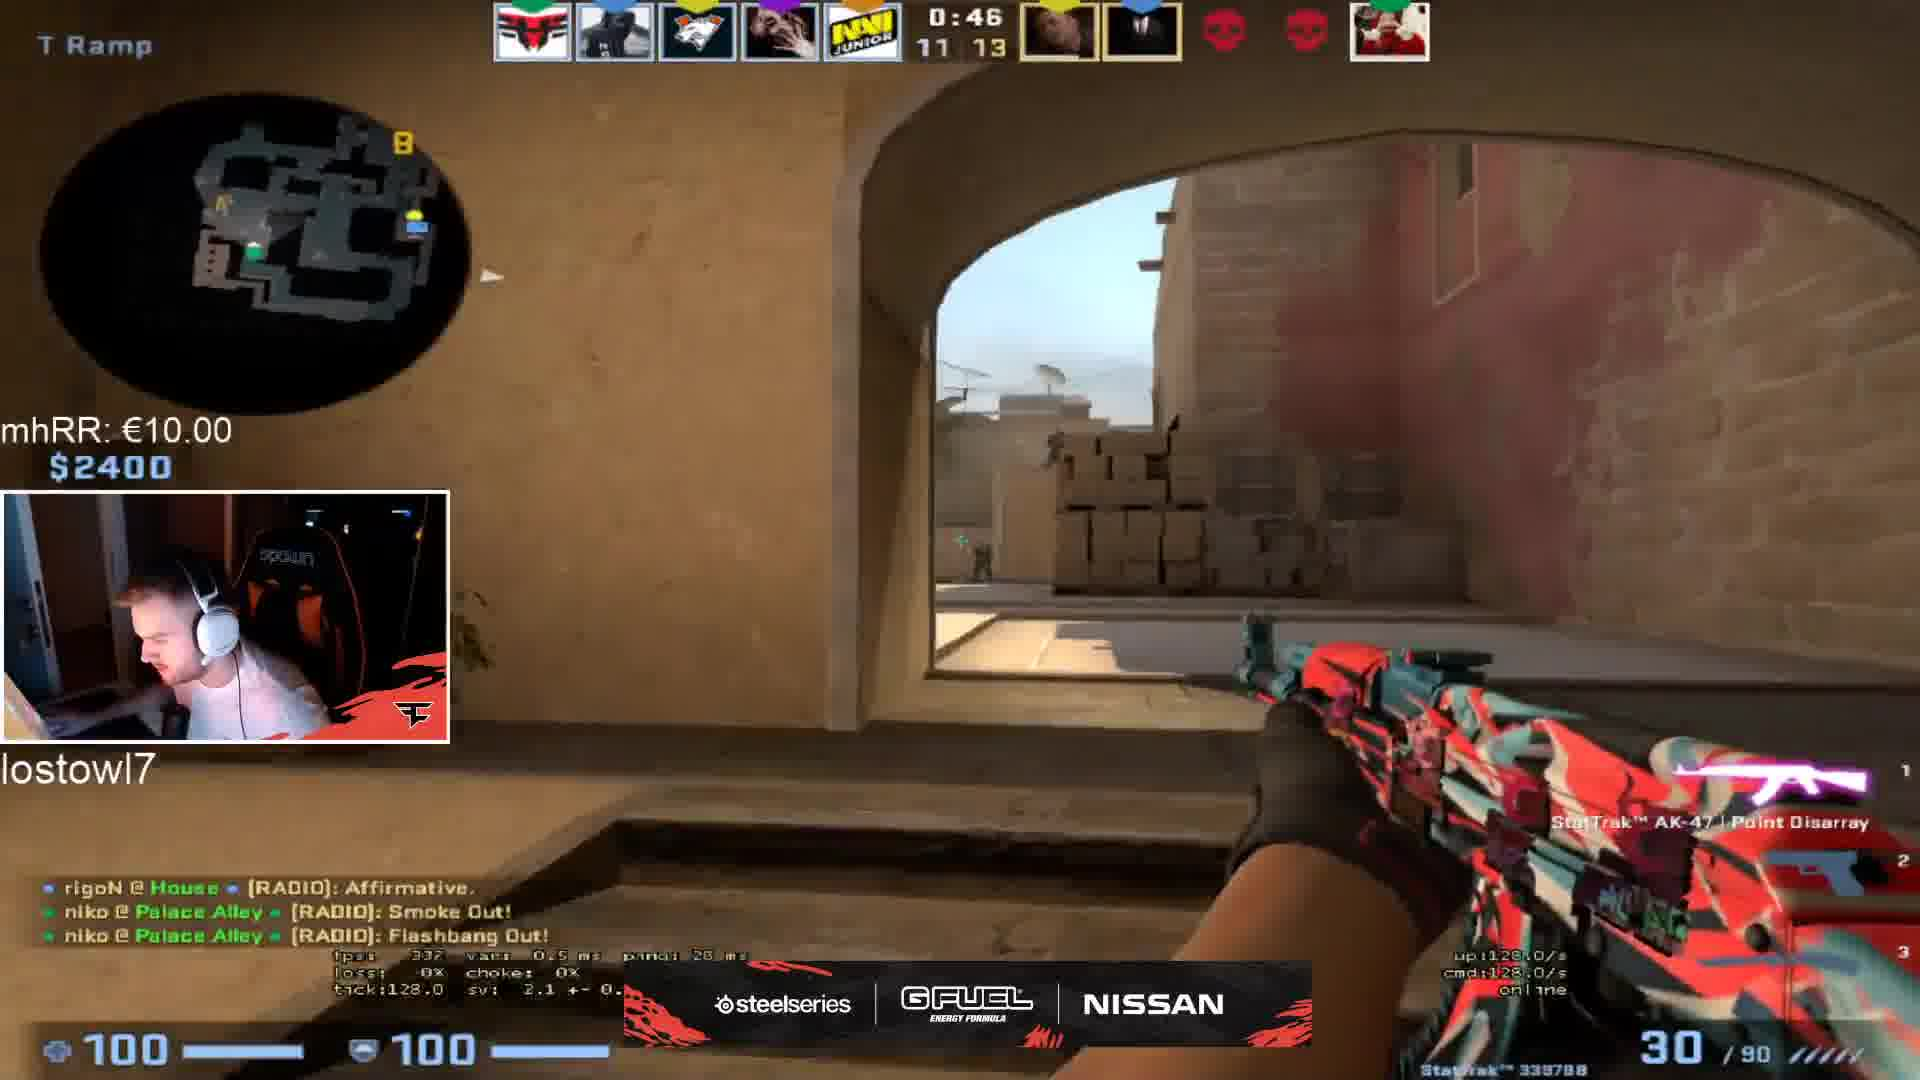enemy: (1039, 421, 1071, 475), (965, 537, 1000, 582)
